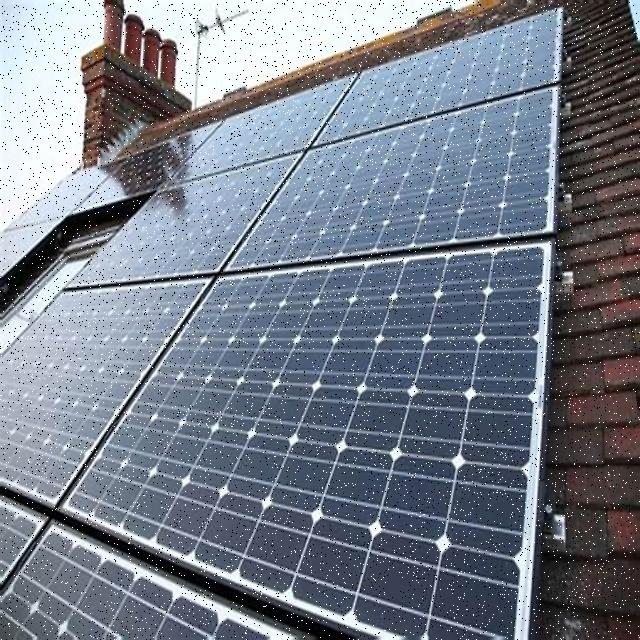clean: (0, 13, 552, 638)
